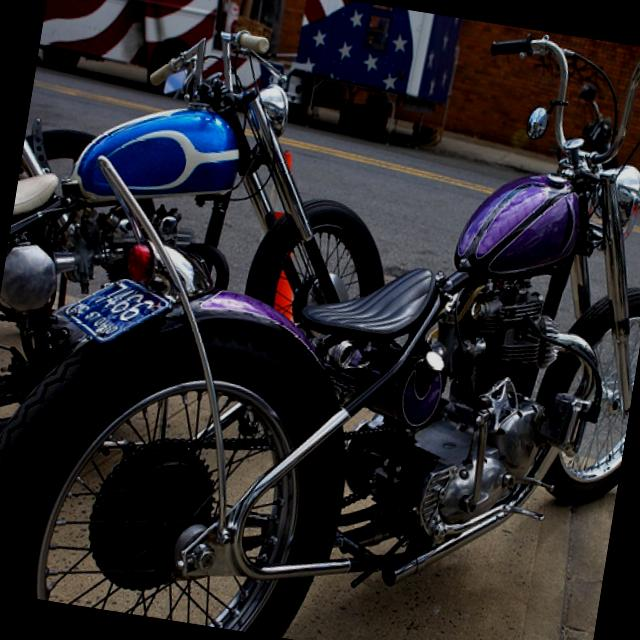Vehicle: (0, 0, 640, 640), (0, 0, 428, 559), (36, 0, 286, 102), (35, 0, 226, 98)
